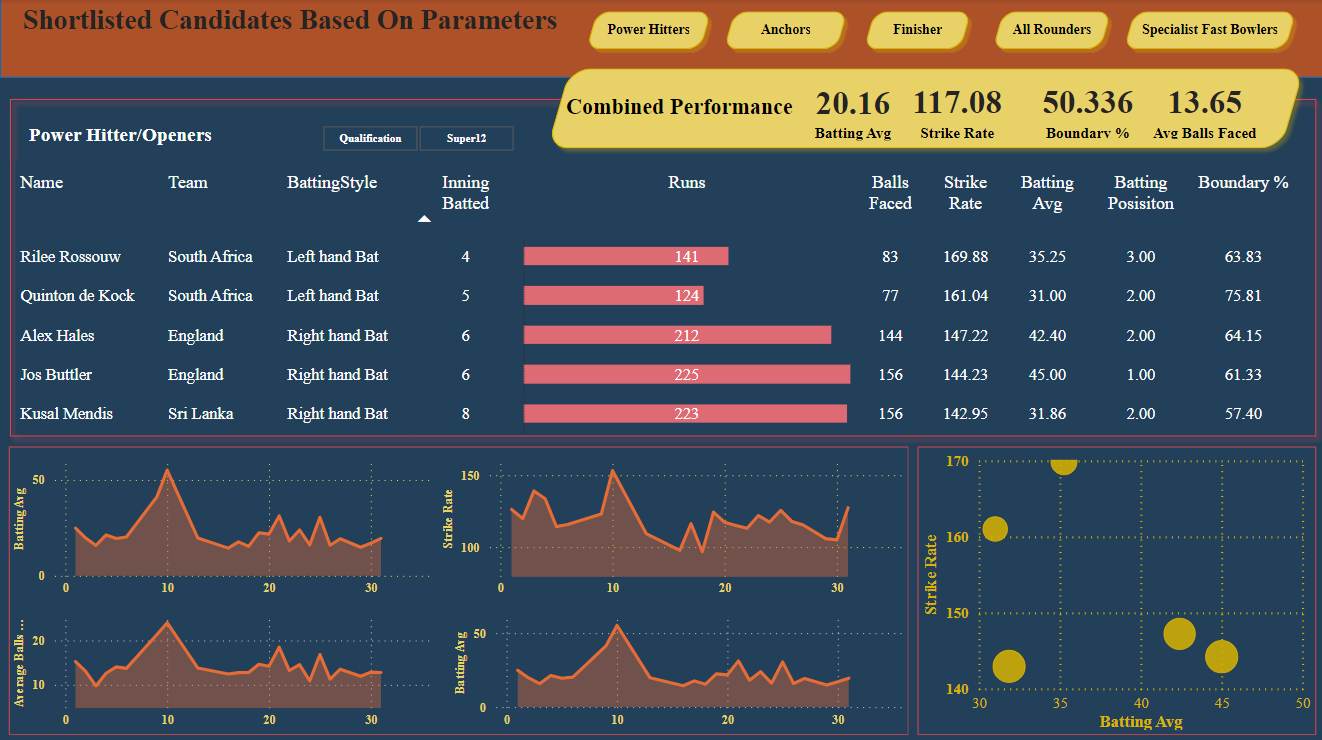

Layout of this report page (visuals, bound fields, positions):
{"tool":"powerbi","page":{"name":"Page 1","canvas":[1280,720],"ordinal":0},"visuals":[{"type":"shape","box":[0,86.8,1279.6,344.9],"z":0},{"type":"shape","box":[0,0,1279.6,76],"z":1000},{"type":"textbox","box":[0,0,559.6,48.2],"z":2000},{"type":"shape","box":[519.8,59.1,746.5,92.9],"z":3000},{"type":"tableEx","fields":{"Values":["dim_players.name","dim_players.team","dim_players.battingStyle","key_measures.Total Inning Batted","key_measures.Total Runs","key_measures.Total Balls Faced","key_measures.Strike Rate","key_measures.Batting Avg","key_measures.Batting Posisiton","key_measures.Boundary %"]},"box":[8.4,152,1271.2,279.8],"z":4000},{"type":"card","fields":{"Values":["key_measures.Batting Avg"]},"box":[769.4,72.4,107.3,68.7],"z":5000},{"type":"card","fields":{"Values":["key_measures.Boundary %"]},"box":[987.7,72.4,124.2,67.5],"z":6000},{"type":"card","fields":{"Values":["key_measures.Strike Rate"]},"box":[859.9,72.4,127.8,67.5],"z":7000},{"type":"card","fields":{"Values":["key_measures.Average Balls Faced"]},"box":[1103.5,72.4,118.2,67.5],"z":8000},{"type":"scatterChart","fields":{"X":["key_measures.Batting Avg"],"Y":["key_measures.Strike Rate"],"Category":["dim_players.name"],"Size":["key_measures.Total Runs"]},"box":[885.2,431.8,384.7,278.6],"z":9000},{"type":"slicer","fields":{"Values":["dim_match_summary.stage"]},"box":[285.8,115.8,234,36.2],"z":10000},{"type":"textbox","box":[533.1,86.8,244.8,47],"z":11000},{"type":"textbox","box":[22.9,115.8,213.5,36.2],"z":12000},{"type":"stackedAreaChart","fields":{"Category":["dim_match_summary.matchDate.Variation.Date Hierarchy.Day"],"Y":["key_measures.Batting Avg"]},"box":[8.4,431.8,413.7,152],"z":13000},{"type":"areaChart","fields":{"Y":["key_measures.Strike Rate"],"Category":["dim_match_summary.matchDate.Variation.Date Hierarchy.Day"]},"box":[422.1,431.8,454.7,152],"z":14000},{"type":"areaChart","fields":{"Category":["dim_match_summary.matchDate.Variation.Date Hierarchy.Day"],"Y":["key_measures.Batting Avg"]},"box":[434.2,583.7,442.6,126.6],"z":15000},{"type":"areaChart","fields":{"Y":["key_measures.Average Balls Faced"],"Category":["dim_match_summary.matchDate.Variation.Date Hierarchy.Day"]},"box":[8.4,583.7,413.7,126.6],"z":16000},{"type":"shape","box":[885.2,431.8,384.7,278.6],"z":17000},{"type":"shape","box":[8.4,431.8,868.3,278.6],"z":18000},{"type":"shape","box":[692.3,6,131.5,48.2],"z":19000},{"type":"shape","box":[827.3,6,115.8,48.2],"z":20000},{"type":"shape","box":[559.6,6,132.7,48.2],"z":21000},{"type":"shape","box":[951.6,6,126.6,48.2],"z":22000},{"type":"shape","box":[1078.2,6,178.5,48.2],"z":23000}]}

Visuals, with their boxes in screenshot pixels (x1, y1, x2, y2), scaled from the page's 1280x720 canvas onto the 1322x740 screenshot:
shape: <region>0, 89, 1321, 444</region>
shape: <region>0, 0, 1321, 78</region>
textbox: <region>0, 0, 578, 50</region>
shape: <region>537, 61, 1308, 156</region>
tableEx - dim_players.name x dim_players.team: <region>9, 156, 1321, 444</region>
card - key_measures.Batting Avg: <region>795, 74, 905, 145</region>
card - key_measures.Boundary %: <region>1020, 74, 1148, 144</region>
card - key_measures.Strike Rate: <region>888, 74, 1020, 144</region>
card - key_measures.Average Balls Faced: <region>1140, 74, 1262, 144</region>
scatterChart - key_measures.Batting Avg x key_measures.Strike Rate: <region>914, 444, 1312, 730</region>
slicer - dim_match_summary.stage: <region>295, 119, 537, 156</region>
textbox: <region>551, 89, 803, 138</region>
textbox: <region>24, 119, 244, 156</region>
stackedAreaChart - dim_match_summary.matchDate.Variation.Date Hierarchy.Day x key_measures.Batting Avg: <region>9, 444, 436, 600</region>
areaChart - key_measures.Strike Rate x dim_match_summary.matchDate.Variation.Date Hierarchy.Day: <region>436, 444, 906, 600</region>
areaChart - dim_match_summary.matchDate.Variation.Date Hierarchy.Day x key_measures.Batting Avg: <region>448, 600, 906, 730</region>
areaChart - key_measures.Average Balls Faced x dim_match_summary.matchDate.Variation.Date Hierarchy.Day: <region>9, 600, 436, 730</region>
shape: <region>914, 444, 1312, 730</region>
shape: <region>9, 444, 905, 730</region>
shape: <region>715, 6, 851, 56</region>
shape: <region>854, 6, 974, 56</region>
shape: <region>578, 6, 715, 56</region>
shape: <region>983, 6, 1114, 56</region>
shape: <region>1114, 6, 1298, 56</region>
